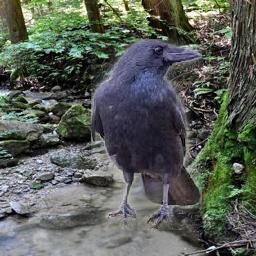Crow: (92, 40, 203, 231)
